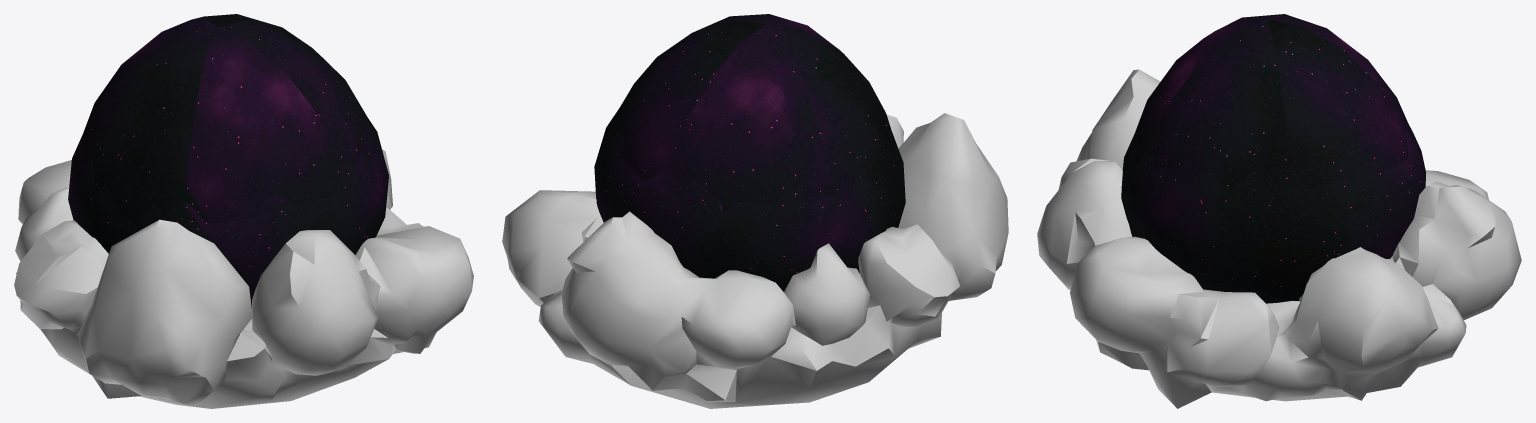
File: mdlCacheVoid.fbx
The picture shows the model from 3 angles, left to right: view 1: azimuth 30°, elevation 25°; view 2: azimuth 150°, elevation 25°; view 3: azimuth 270°, elevation 25°; orthographic projection. The views are drawn at different scales.
Visible parts, largest first — view 1: mdlCacheVoidRocks, ClosedMesh, BustedMesh; view 2: mdlCacheVoidRocks, ClosedMesh, BustedMesh; view 3: mdlCacheVoidRocks, ClosedMesh, BustedMesh.
Boxes of the visible parts, x1=… form: mdlCacheVoidRocks: x1=14, y1=149, x2=473, y2=408; ClosedMesh: x1=79, y1=14, x2=371, y2=223; BustedMesh: x1=68, y1=120, x2=388, y2=307; mdlCacheVoidRocks: x1=502, y1=113, x2=1008, y2=408; ClosedMesh: x1=611, y1=14, x2=897, y2=207; BustedMesh: x1=594, y1=109, x2=905, y2=291; mdlCacheVoidRocks: x1=1037, y1=69, x2=1521, y2=408; ClosedMesh: x1=1130, y1=14, x2=1413, y2=190; BustedMesh: x1=1121, y1=121, x2=1425, y2=303.
Size of the model in its own units: 2.27 by 1.87 by 2.39.
